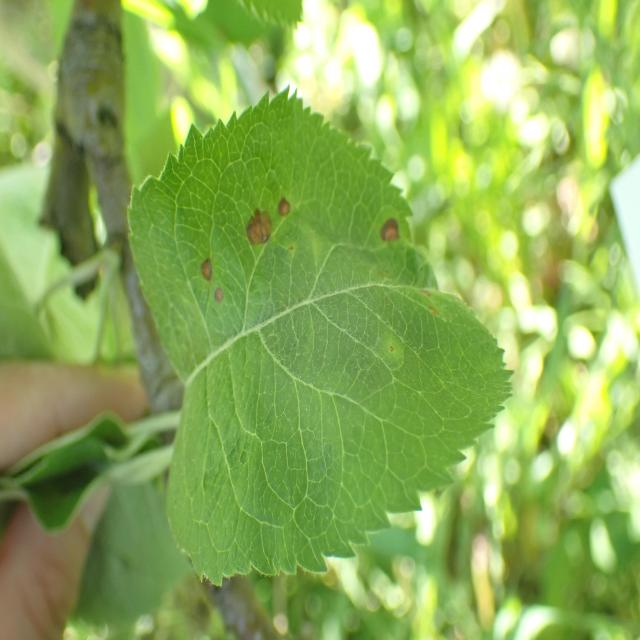Black Rot: (235, 190, 272, 253), (367, 199, 409, 252), (193, 251, 226, 306), (274, 177, 300, 232)
